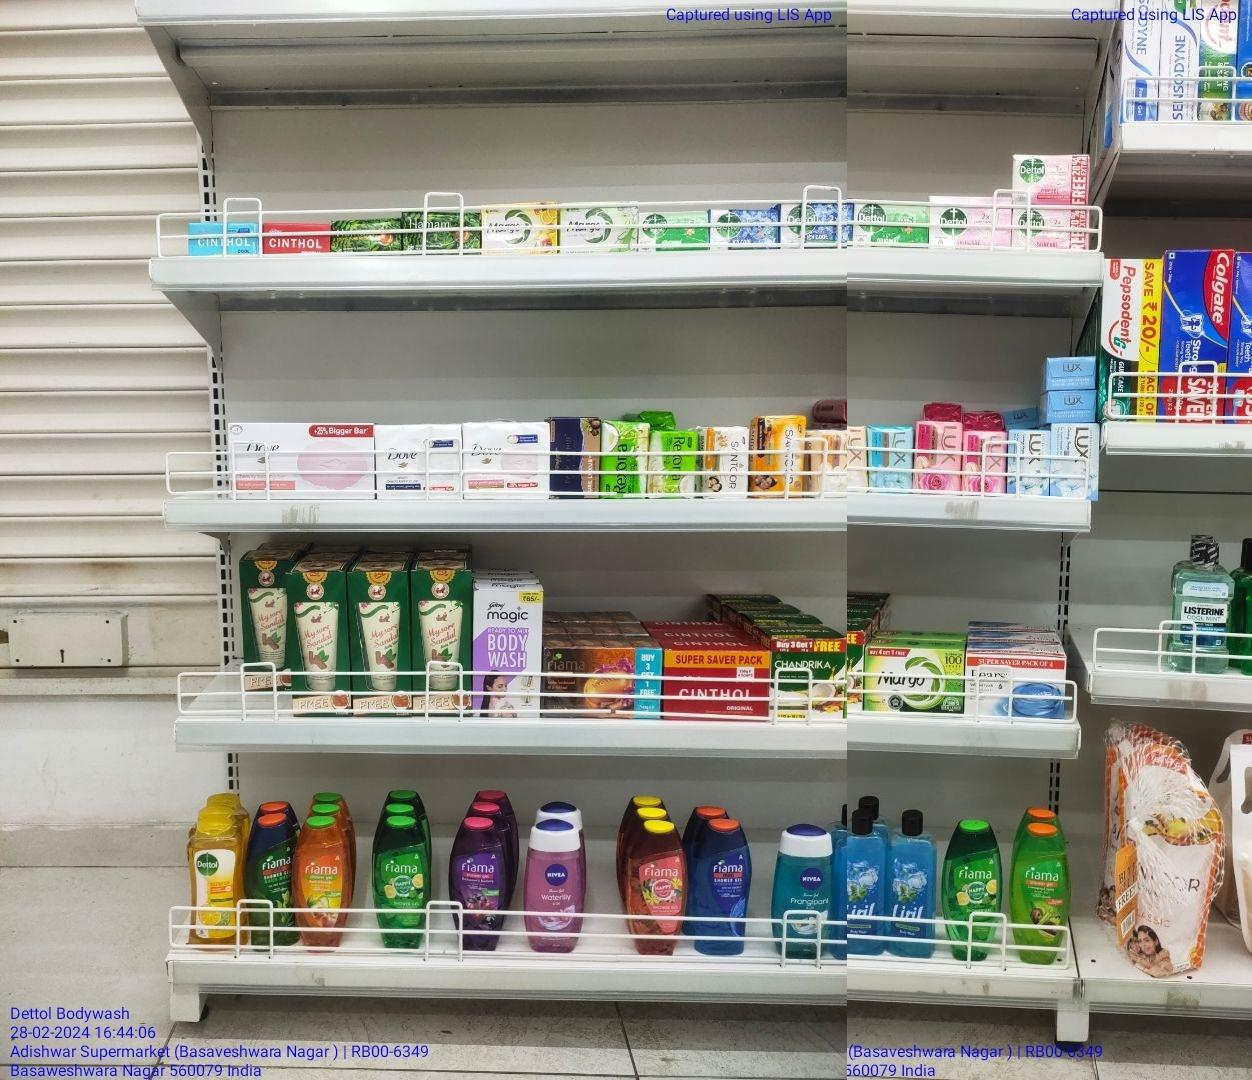Dettol_Bodywash_Refresh: (194, 815, 243, 955)
Fiama_Shower_Gel_Lemongrass_and_Jojoba_250ML: (1015, 825, 1065, 970)
Fiama_Shower_Gel_Peach_and_Avocado_250ML: (297, 815, 347, 952)
Liril_Cooling_Mint_Body_Wash_250ML: (887, 809, 936, 961), (845, 808, 883, 960)
Nivea_Shower_Gel_Frangipani_and_Oil_250ML: (771, 829, 834, 964)
Nivea_Shower_Gel_Waterlily_and_Oil_250ML: (524, 828, 583, 953)
